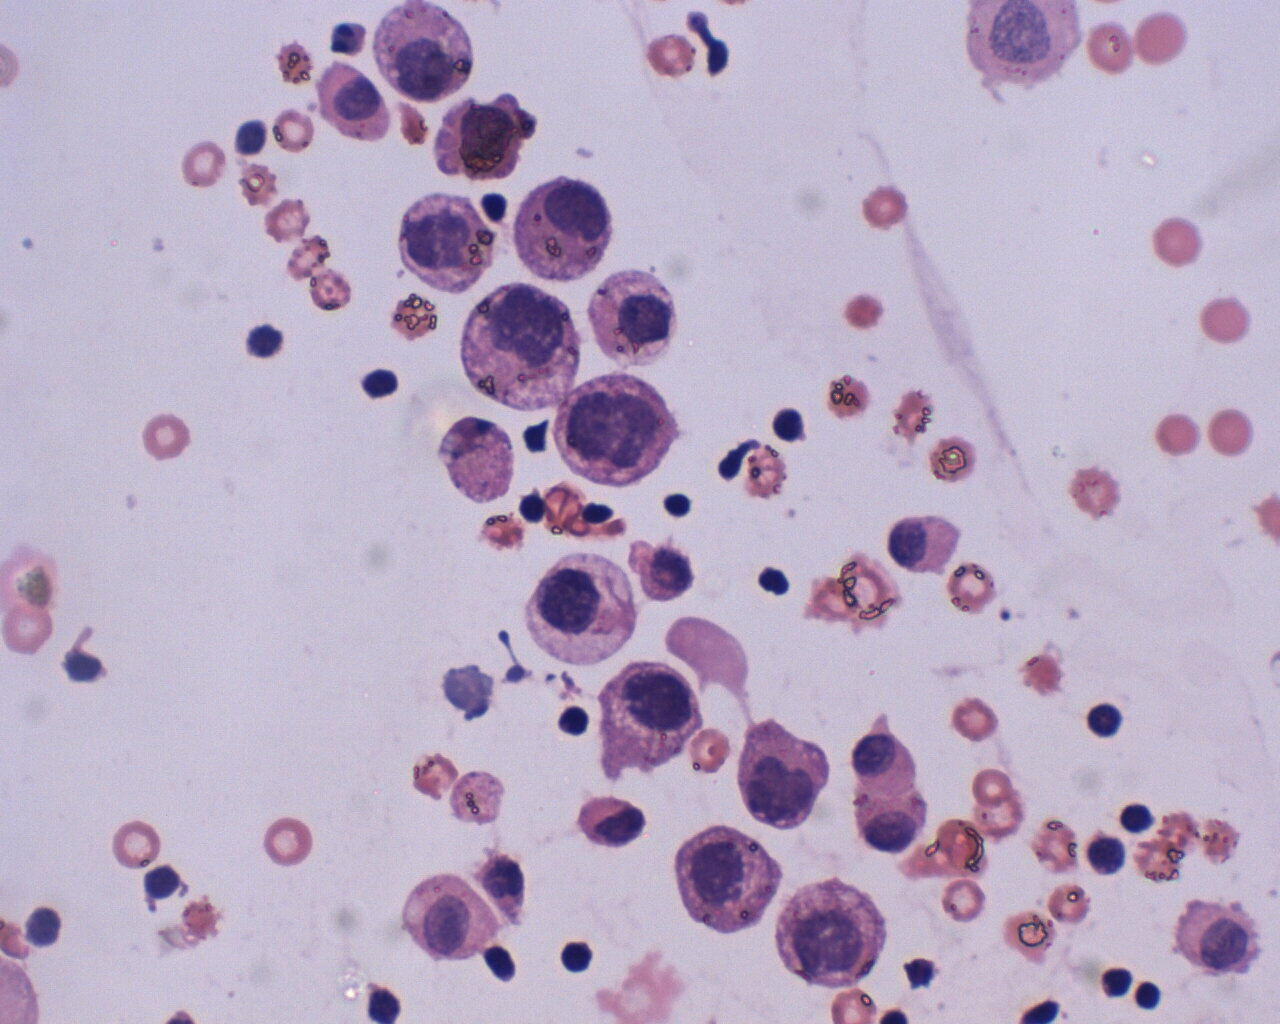ab: (464, 276, 585, 417), (554, 369, 681, 489), (604, 650, 706, 783), (771, 875, 887, 991), (523, 550, 637, 668), (679, 823, 789, 940), (512, 172, 622, 287), (395, 186, 499, 299), (739, 712, 833, 834)
lymph: (1085, 701, 1133, 743), (1132, 976, 1167, 1015)
meso: (317, 54, 395, 144)
